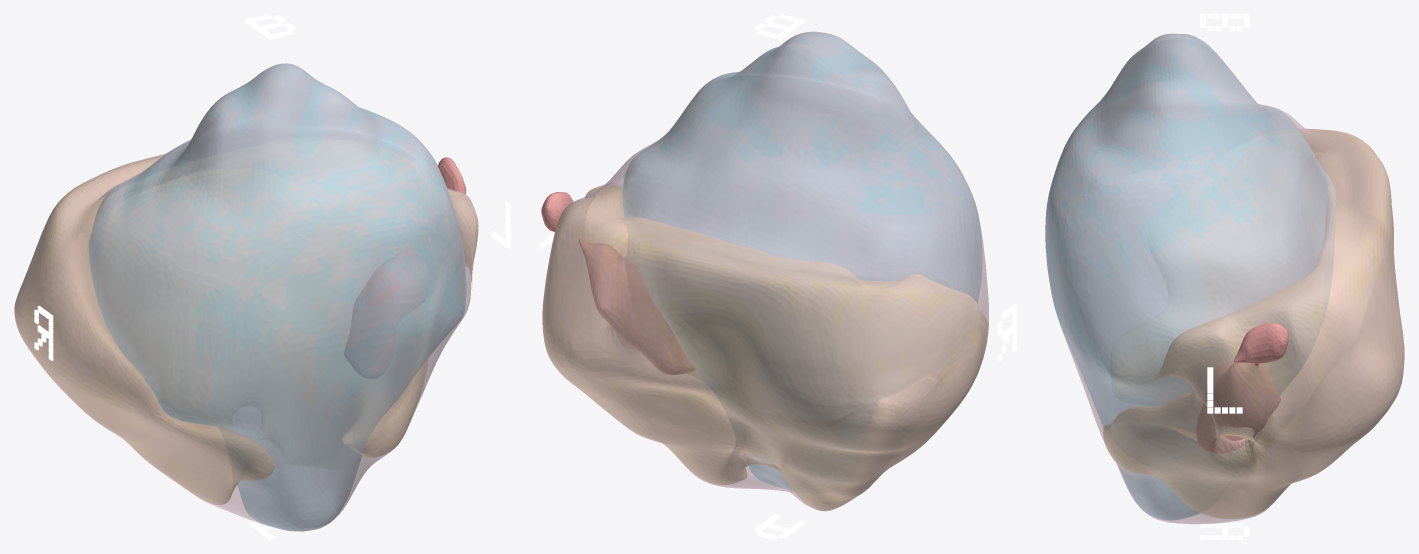
3 views of the same model, side by side, from view 1: azimuth 30°, elevation 25°; view 2: azimuth 150°, elevation 25°; view 3: azimuth 270°, elevation 25° (orthographic).
Parts seen in each view (by area): view 1: prostate_gland, transition_zone, peripheral_zone, lesion_01, pv_ar_marker_B, pv_ar_marker_R; view 2: prostate_gland, peripheral_zone, transition_zone, lesion_01, pv_ar_marker_B, pv_ar_marker_R; view 3: prostate_gland, transition_zone, peripheral_zone, lesion_01, pv_ar_marker_B, pv_ar_marker_L, pv_ar_marker_A.
Boxes of the visible parts, x1=… form: prostate_gland: x1=14, y1=63, x2=478, y2=531; transition_zone: x1=89, y1=63, x2=466, y2=530; peripheral_zone: x1=15, y1=154, x2=477, y2=504; lesion_01: x1=344, y1=157, x2=466, y2=378; pv_ar_marker_B: x1=245, y1=14, x2=296, y2=39; pv_ar_marker_R: x1=34, y1=305, x2=53, y2=360; prostate_gland: x1=542, y1=31, x2=988, y2=511; peripheral_zone: x1=543, y1=185, x2=987, y2=510; transition_zone: x1=622, y1=32, x2=982, y2=490; lesion_01: x1=541, y1=192, x2=694, y2=374; pv_ar_marker_B: x1=754, y1=14, x2=805, y2=39; pv_ar_marker_R: x1=997, y1=304, x2=1016, y2=361; prostate_gland: x1=1045, y1=33, x2=1404, y2=524; transition_zone: x1=1045, y1=34, x2=1335, y2=520; peripheral_zone: x1=1103, y1=129, x2=1403, y2=518; lesion_01: x1=1196, y1=322, x2=1288, y2=453; pv_ar_marker_B: x1=1200, y1=14, x2=1249, y2=30; pv_ar_marker_L: x1=1207, y1=367, x2=1242, y2=413; pv_ar_marker_A: x1=1200, y1=523, x2=1249, y2=539.
Bounding box in the file's own units: 0.0615 × 0.0643 × 0.041.
